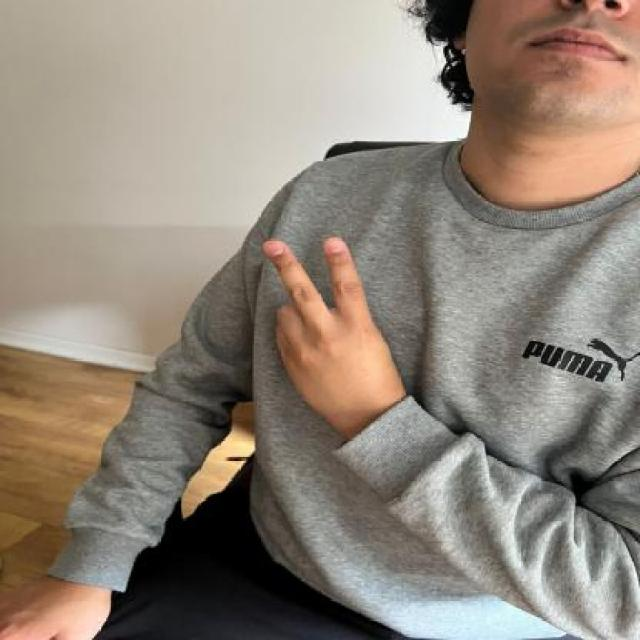V: (255, 228, 407, 442)
